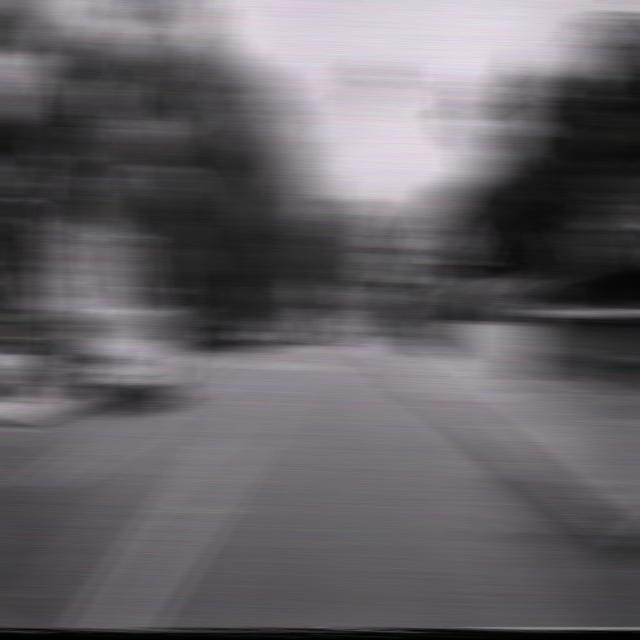pedestrianCrossing: (422, 211, 471, 266)
